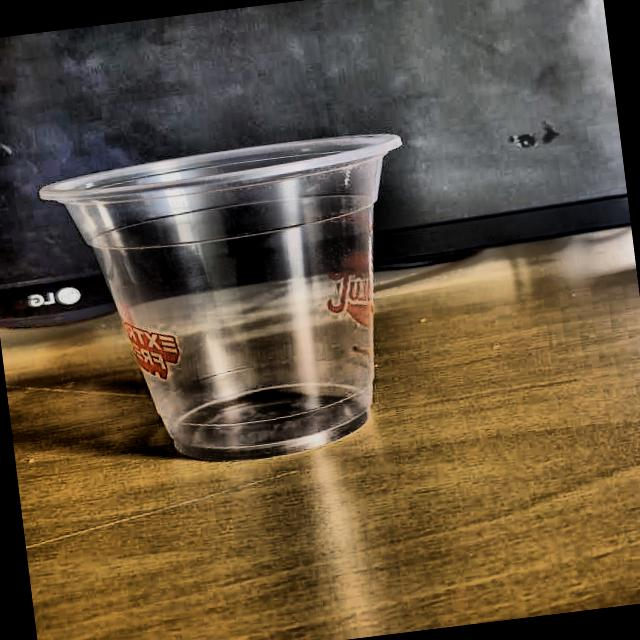plastic cup: (34, 124, 439, 482)
